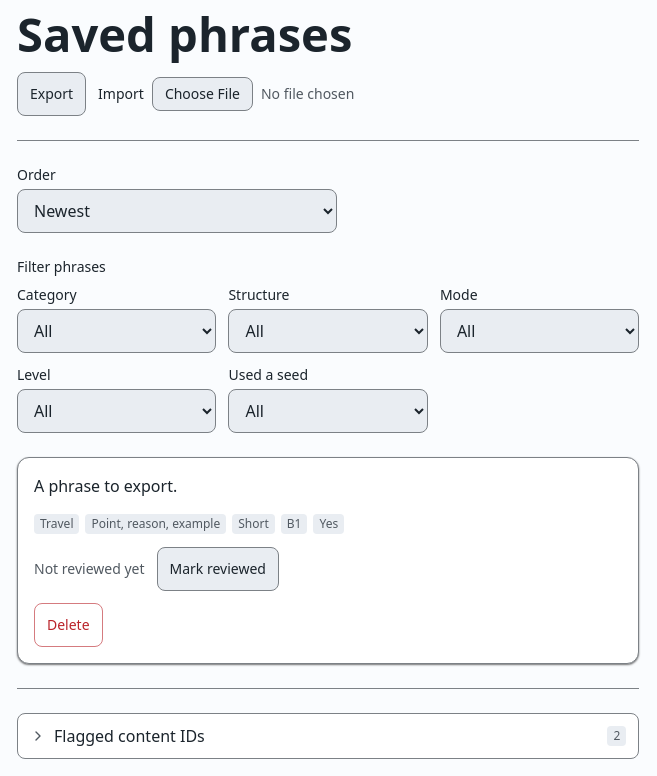
Test: PhrasesPage › distinguishes an excluding filter from nothing having been saved
Select "Work" in the dropdown labelled "Category" at (117, 331), box [17,309,216,353]
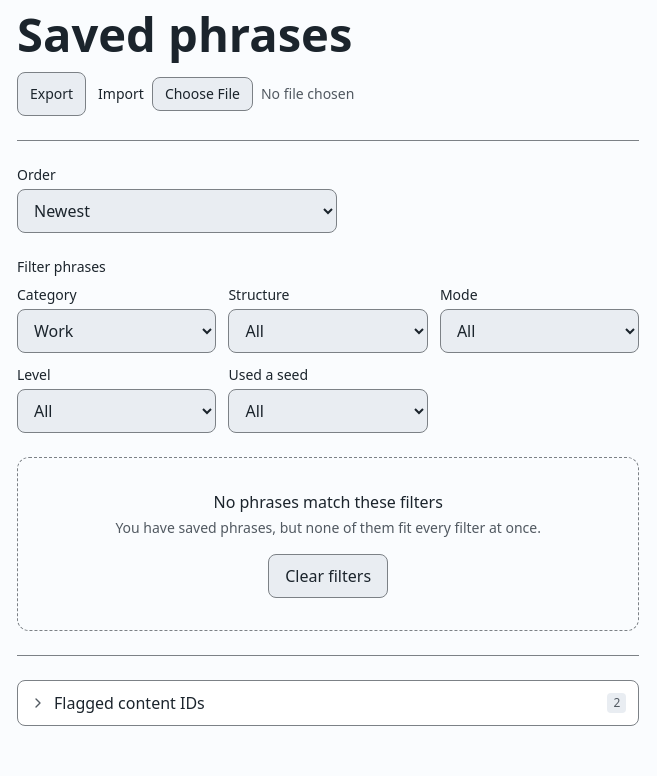
Expected: the text "No phrases match these filters" is shown, [214,491,443,513]
Click the button "Clear filters" at (328, 576), box [268,554,388,598]
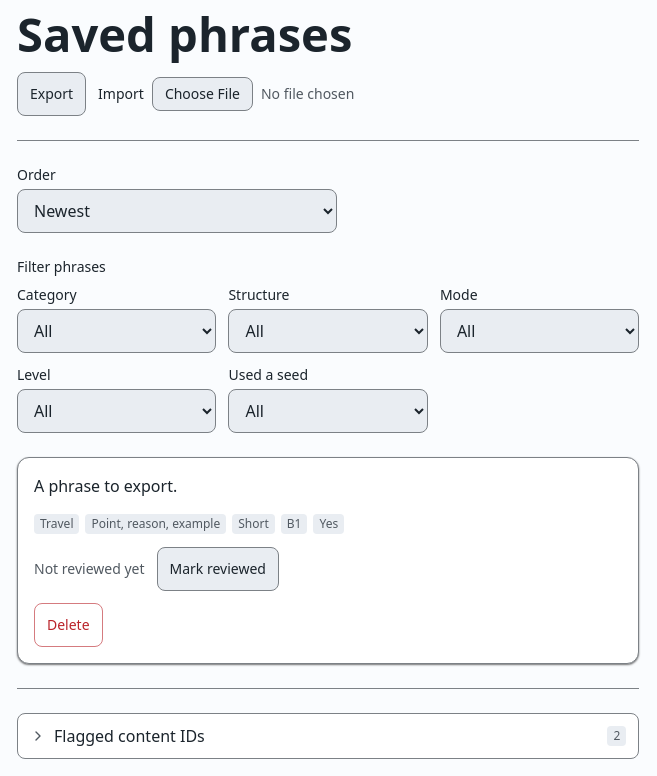
Expected: the text "No phrases match these filters" is gone
